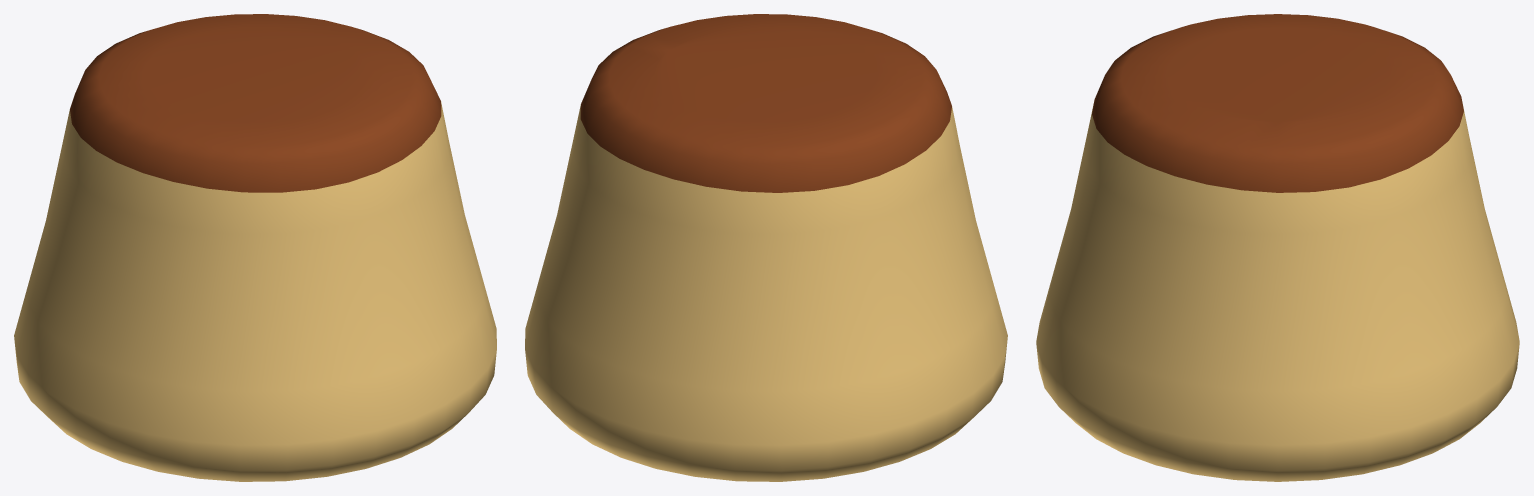
Rendered from pudding.glb.
3 renders of one model, left to right at view 1: azimuth 30°, elevation 25°; view 2: azimuth 150°, elevation 25°; view 3: azimuth 270°, elevation 25°, orthographic.
Visible parts, largest first — view 1: Pudding; view 2: Pudding; view 3: Pudding.
Part boxes in pixels (left/top/right/bottom): Pudding: left=14, top=14, right=496, bottom=481; Pudding: left=525, top=14, right=1007, bottom=481; Pudding: left=1036, top=14, right=1519, bottom=481.
Bounding box in the file's own units: 0.182 × 0.132 × 0.182.
